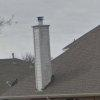Chimney: (25, 9, 58, 99)
